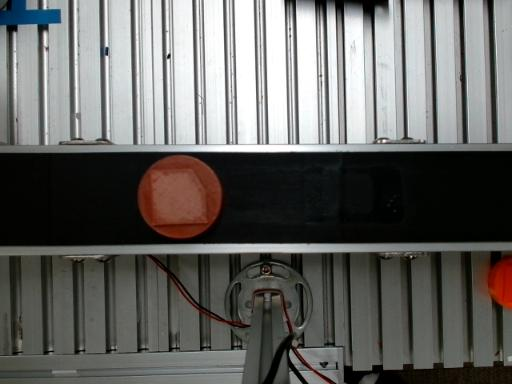Brown_Waper: (138, 155, 222, 238)
Not_Square: (149, 169, 208, 224)
